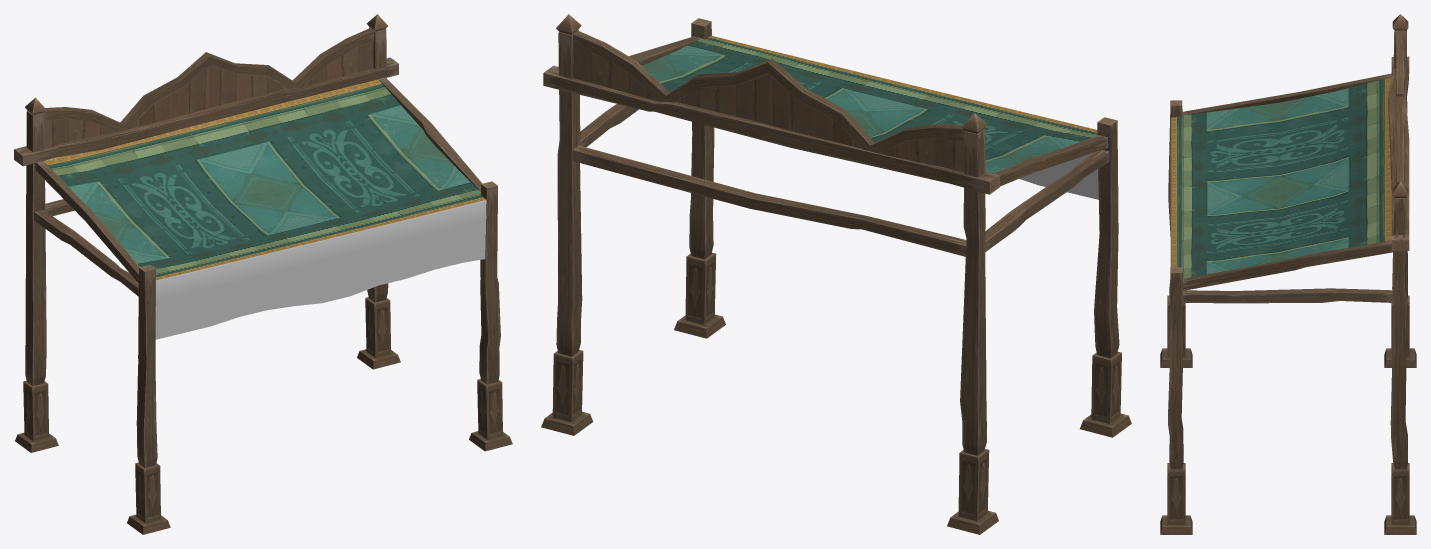
The model's file is Homeworld_Exterior_Xm_Build_Shed_01_Lod0.fbx.
3 views of the same model, side by side, from view 1: azimuth 30°, elevation 25°; view 2: azimuth 150°, elevation 25°; view 3: azimuth 270°, elevation 25° (orthographic). The views are drawn at different scales.
Visible parts, largest first — view 1: Homeworld_Exterior_Xm_Build_Shed_01_Lod0; view 2: Homeworld_Exterior_Xm_Build_Shed_01_Lod0; view 3: Homeworld_Exterior_Xm_Build_Shed_01_Lod0.
Boxes of the visible parts, x1=… form: Homeworld_Exterior_Xm_Build_Shed_01_Lod0: x1=14, y1=14, x2=512, y2=534; Homeworld_Exterior_Xm_Build_Shed_01_Lod0: x1=541, y1=14, x2=1131, y2=534; Homeworld_Exterior_Xm_Build_Shed_01_Lod0: x1=1160, y1=14, x2=1416, y2=534.
Size of the model in its own units: 6.21 by 5.5 by 3.66.
